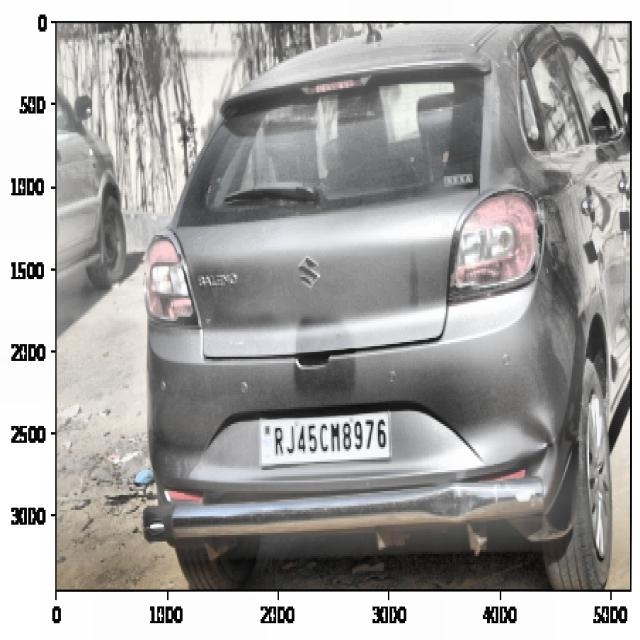license_plate: (270, 412, 390, 460)
